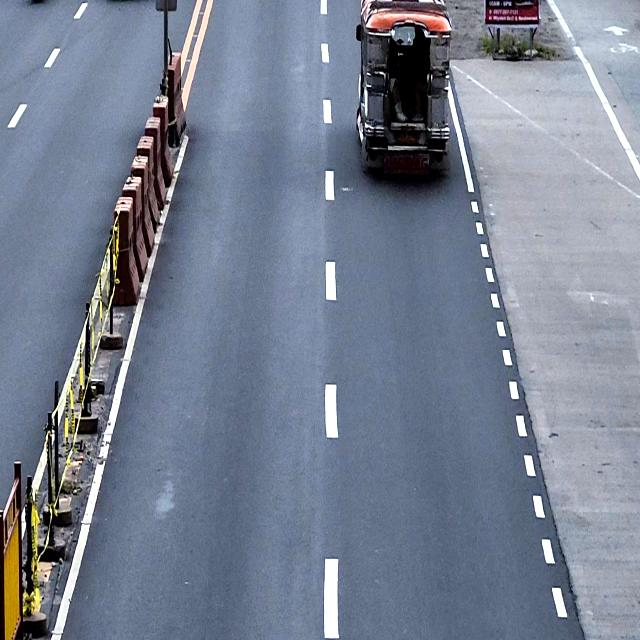Jeep: (355, 0, 452, 177)
License-Plate: (395, 129, 421, 147)
